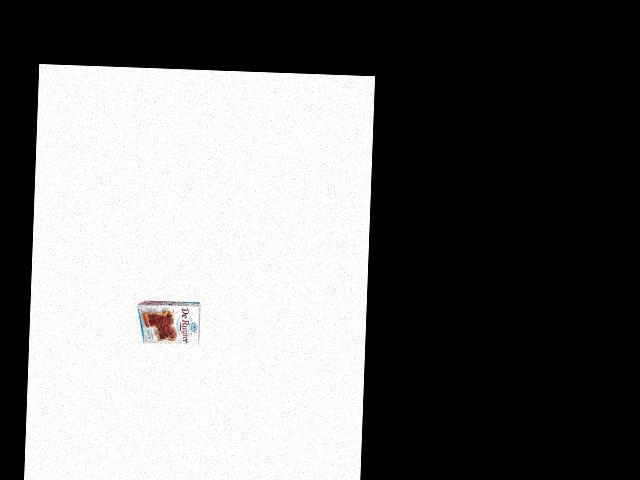chocolate: (137, 294, 204, 350)
